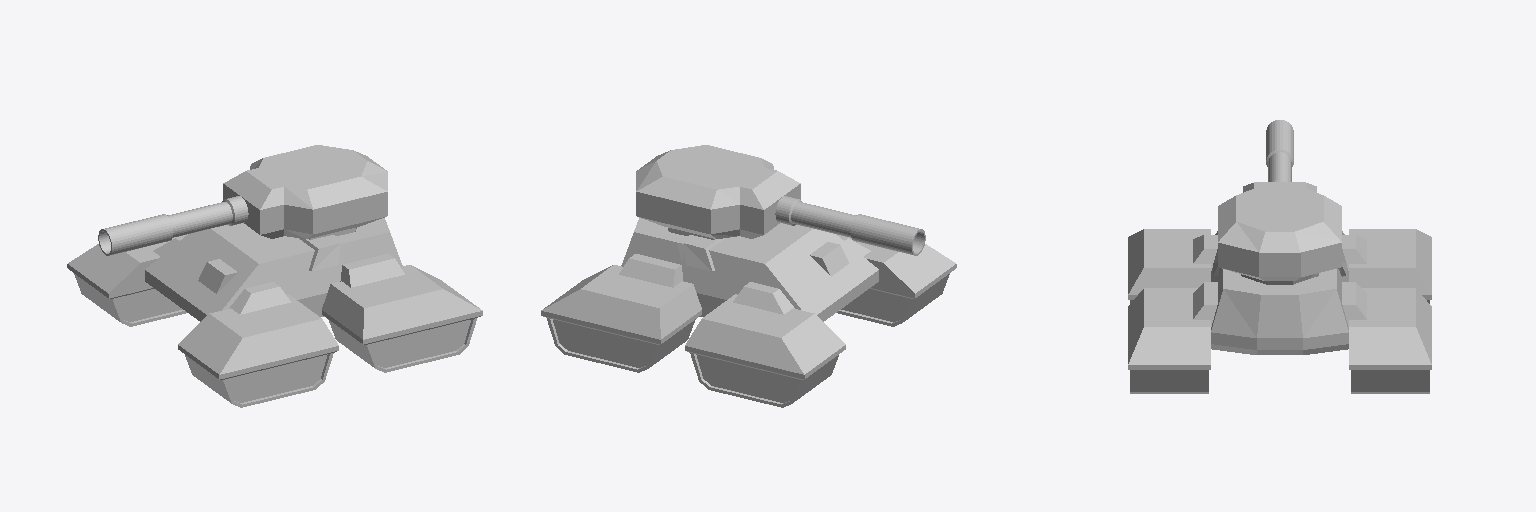
The model's file is Tank.obj.
3 views of the same model, side by side, from view 1: azimuth 30°, elevation 25°; view 2: azimuth 150°, elevation 25°; view 3: azimuth 270°, elevation 25° (orthographic).
Parts seen in each view (by area): view 1: Cube.004_Cube.005, Cube_Cube.001, Cube.005_Cube.006, Cylinder; view 2: Cube.004_Cube.005, Cube_Cube.001, Cube.005_Cube.006, Cylinder; view 3: Cube.004_Cube.005, Cube_Cube.001, Cube.005_Cube.006, Cylinder.
Boxes of the visible parts, x1,y1,x2,y2 form: Cube.004_Cube.005: [67, 234, 482, 407]; Cube_Cube.001: [145, 218, 404, 321]; Cube.005_Cube.006: [223, 145, 387, 239]; Cylinder: [98, 196, 248, 255]; Cube.004_Cube.005: [541, 234, 956, 407]; Cube_Cube.001: [619, 218, 878, 321]; Cube.005_Cube.006: [636, 145, 800, 239]; Cylinder: [775, 196, 925, 255]; Cube.004_Cube.005: [1128, 229, 1431, 393]; Cube_Cube.001: [1193, 231, 1366, 354]; Cube.005_Cube.006: [1218, 182, 1341, 284]; Cylinder: [1266, 120, 1293, 181].
Bounding box in the file's own units: 5.04 × 2.4 × 4.4.